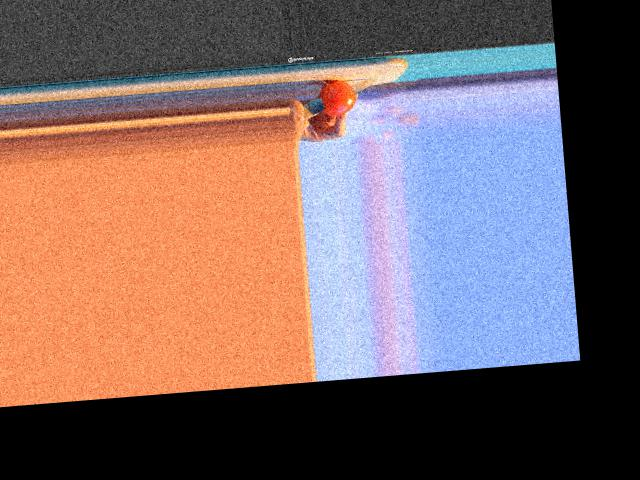tomato: (318, 78, 358, 116)
